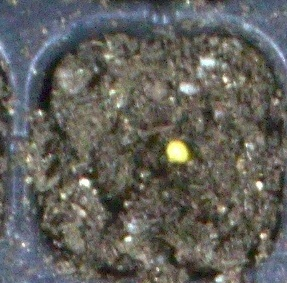chilli seed: (164, 139, 190, 163)
